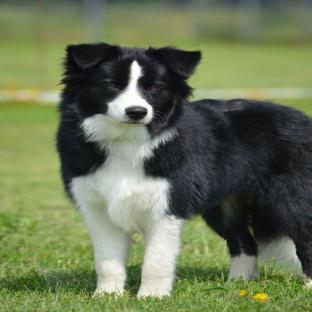Animal: (56, 43, 311, 298)
